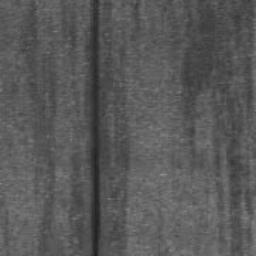Scratches: (87, 0, 102, 256)
